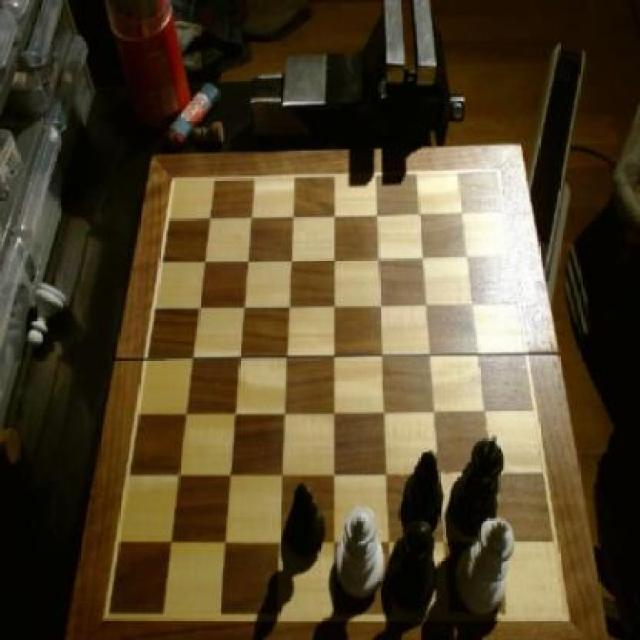bishop: (400, 452, 445, 538), (284, 484, 330, 558)
black-bishop: (450, 430, 506, 548)
black-pawn: (391, 518, 436, 614)
white-bishop: (456, 515, 520, 621)
white-pawn: (339, 506, 386, 597)
